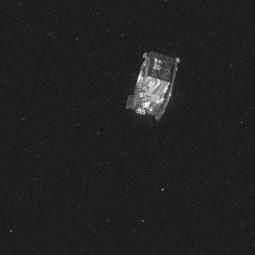lisa_pathfinder: (116, 36, 190, 133)
